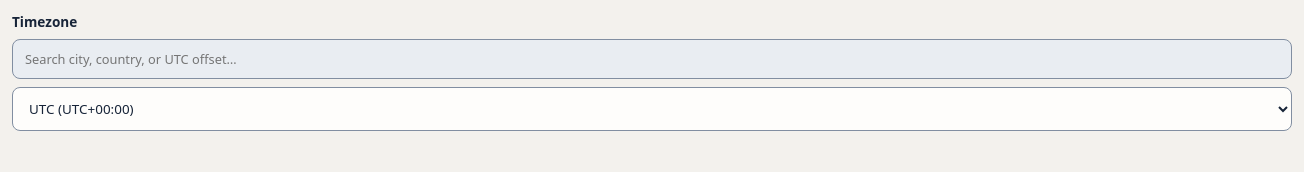
Test case: TimezoneSelect IANA dropdown › lists IANA timezones with UTC offsets, supports filtering, and preserves existing stored values
Expected: the dropdown labelled "Timezone" shows "UTC (UTC+00:00)", [12, 87, 1292, 131]
Type "Karachi" into the search field named "Search timezone" at (652, 59), box [12, 39, 1292, 79]
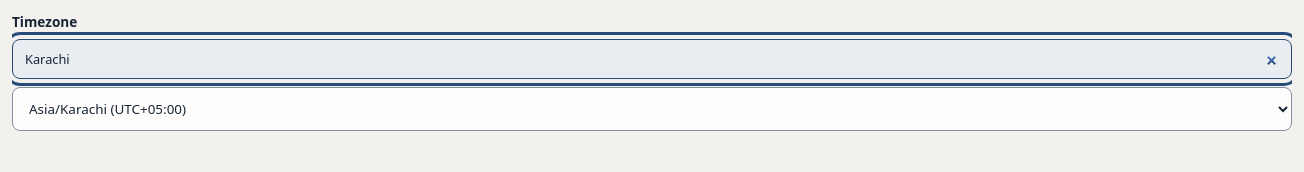
Expected: the dropdown labelled "Timezone" shows "Asia/Karachi (UTC+05:00)", [12, 87, 1292, 131]
